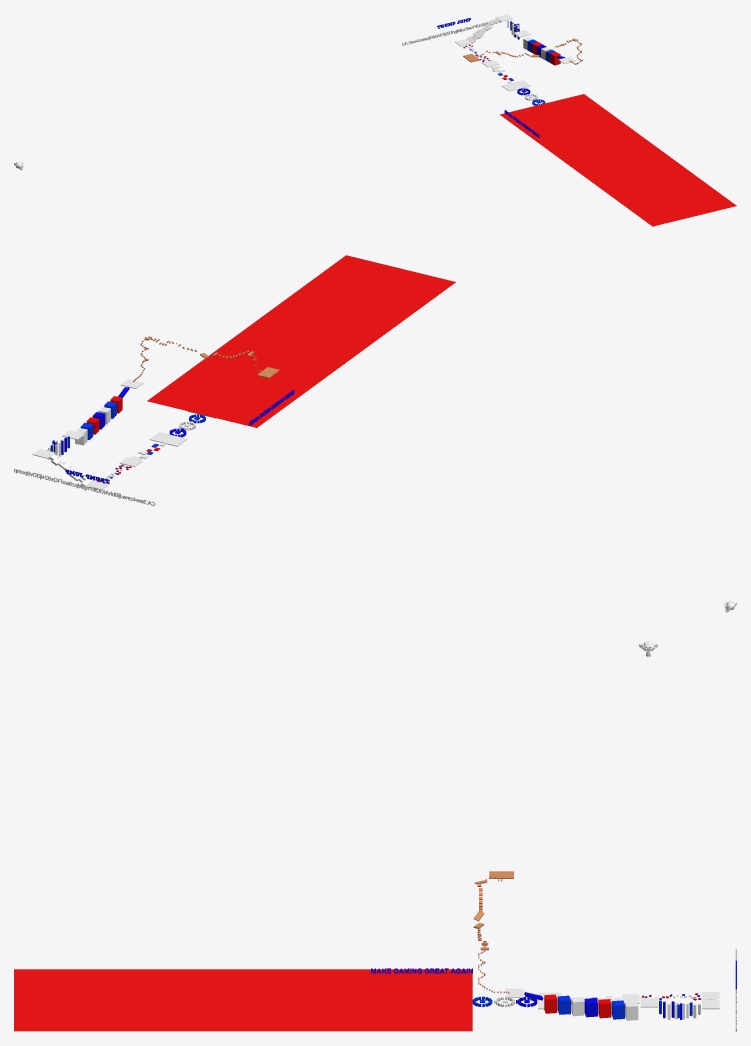
3 views of the same model, one above another, from view 1: azimuth 30°, elevation 25°; view 2: azimuth 150°, elevation 25°; view 3: azimuth 270°, elevation 25° (orthographic). The views are drawn at different scales.
Parts seen in each view (by area): view 1: Box; view 2: Box; view 3: Box.
Part boxes in pixels (left/top/right/bottom): Box: left=500, top=94, right=736, bottom=226; Box: left=147, top=255, right=455, bottom=427; Box: left=14, top=969, right=472, bottom=1031.
Size of the model in its own units: 3595 by 402 by 2866.
